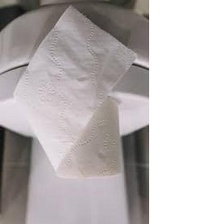tissue: (8, 1, 142, 186)
